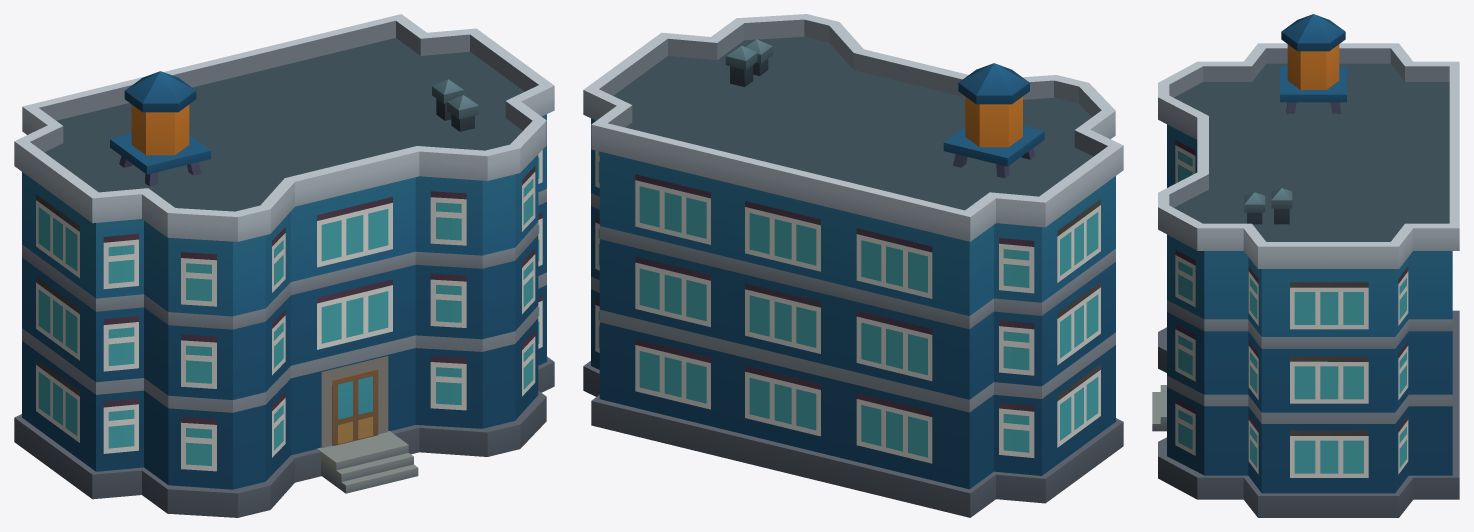
File: Building_cartoon_25.fbx
3 views of the same model, side by side, from view 1: azimuth 30°, elevation 25°; view 2: azimuth 150°, elevation 25°; view 3: azimuth 270°, elevation 25° (orthographic). The views are drawn at different scales.
Parts seen in each view (by area): view 1: Building_cartoon_25; view 2: Building_cartoon_25; view 3: Building_cartoon_25.
Boxes of the visible parts, x1=… form: Building_cartoon_25: x1=14, y1=14, x2=554, y2=517; Building_cartoon_25: x1=583, y1=14, x2=1123, y2=517; Building_cartoon_25: x1=1152, y1=14, x2=1459, y2=517.
Size of the model in its own units: 1880 by 1483 by 1200.
